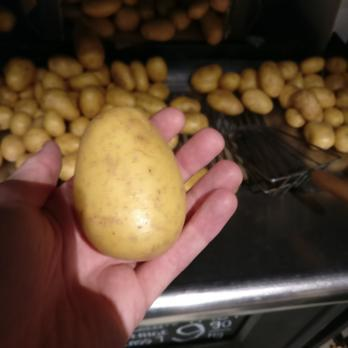Solid potato: (70, 105, 183, 262)
